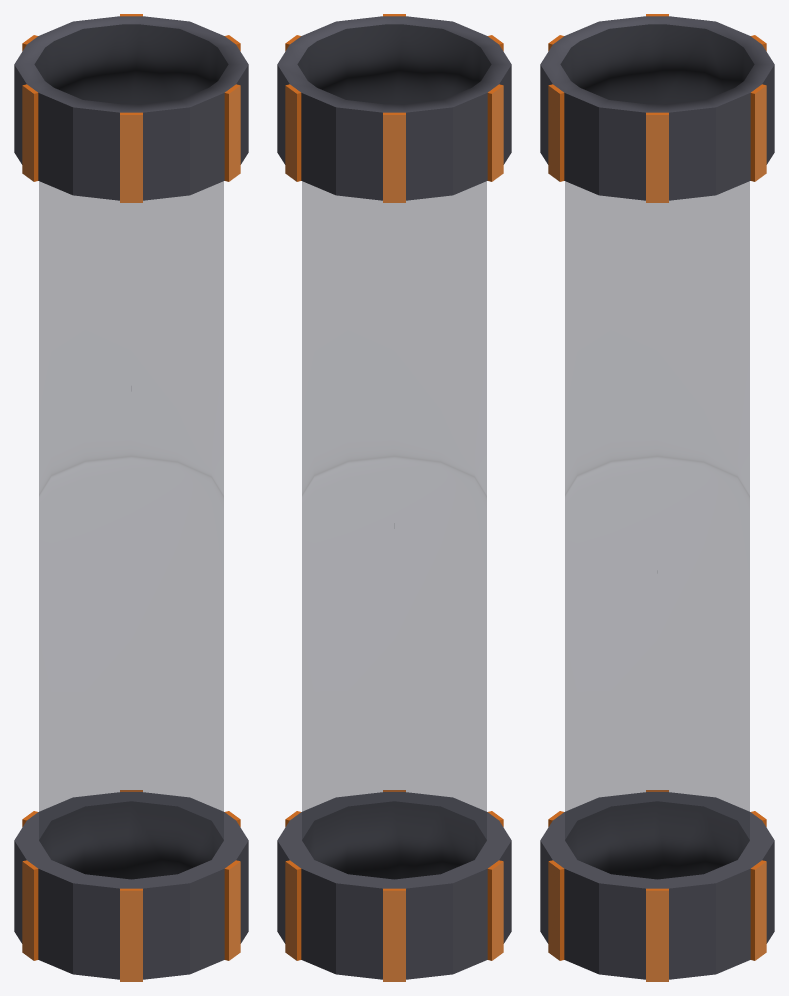
Rendered from TubeRect.glb.
The picture shows the model from 3 angles, left to right: view 1: azimuth 30°, elevation 25°; view 2: azimuth 150°, elevation 25°; view 3: azimuth 270°, elevation 25°; orthographic projection.
Visible parts, largest first — view 1: Tube_Rect; view 2: Tube_Rect; view 3: Tube_Rect.
Part boxes in pixels (bbox=[...]): Tube_Rect: bbox=[14, 14, 248, 981]; Tube_Rect: bbox=[277, 14, 511, 981]; Tube_Rect: bbox=[540, 14, 774, 981].
Size of the model in its own units: 0.2495 by 1 by 0.245.
2 materials, 2 textured.
